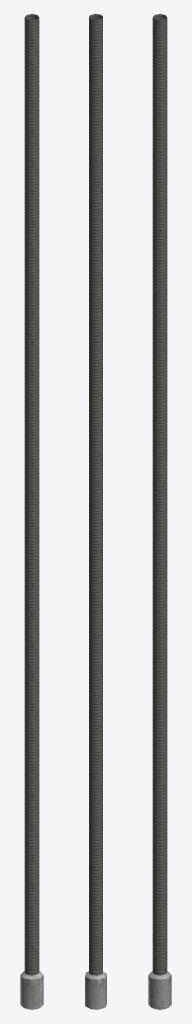
Rendered from Ob_ScafHanging.fbx.
3 renders of one model, left to right at view 1: azimuth 90°, elevation 25°; view 2: azimuth 150°, elevation 25°; view 3: azimuth 270°, elevation 25°, orthographic.
Parts seen in each view (by area): view 1: Ob_ScafHanging; view 2: Ob_ScafHanging; view 3: Ob_ScafHanging.
Boxes of the visible parts, x1,y1,x2,y2 form: Ob_ScafHanging: (20, 14, 43, 1009); Ob_ScafHanging: (85, 14, 106, 1009); Ob_ScafHanging: (148, 14, 171, 1009).
Size of the model in its own units: 198 by 9421 by 198.
